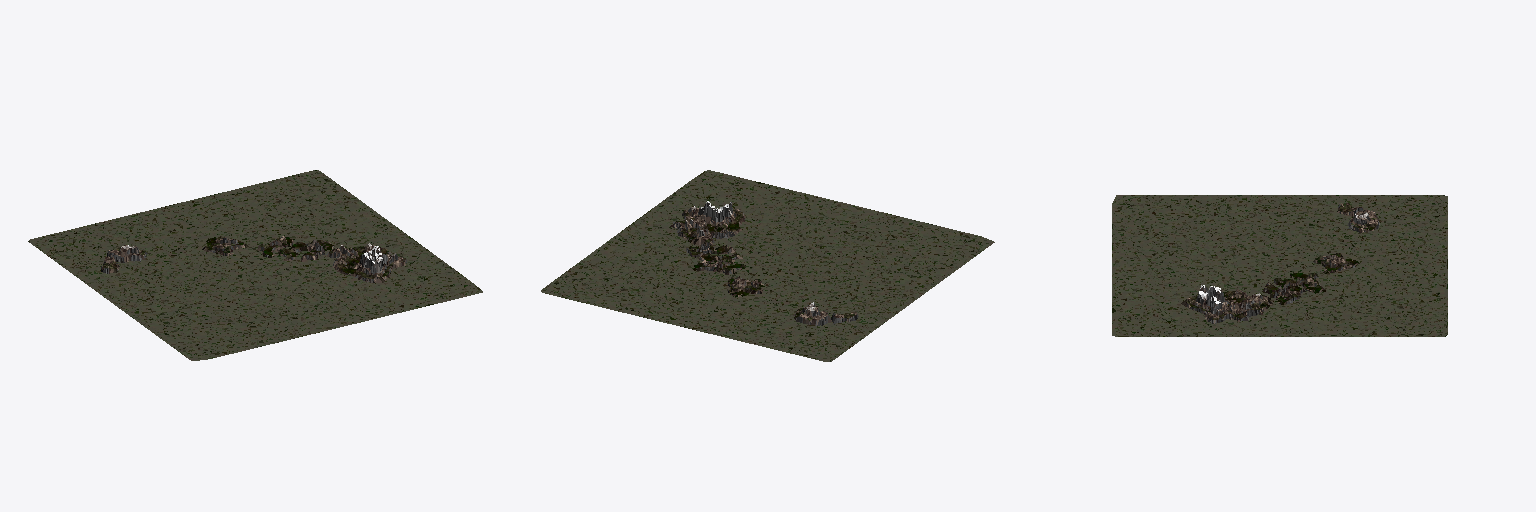
Rendered from heightfield.obj.
3 renders of one model, left to right at view 1: azimuth 30°, elevation 25°; view 2: azimuth 150°, elevation 25°; view 3: azimuth 270°, elevation 25°, orthographic.
Bounding box in the file's own units: 300 × 20 × 299.